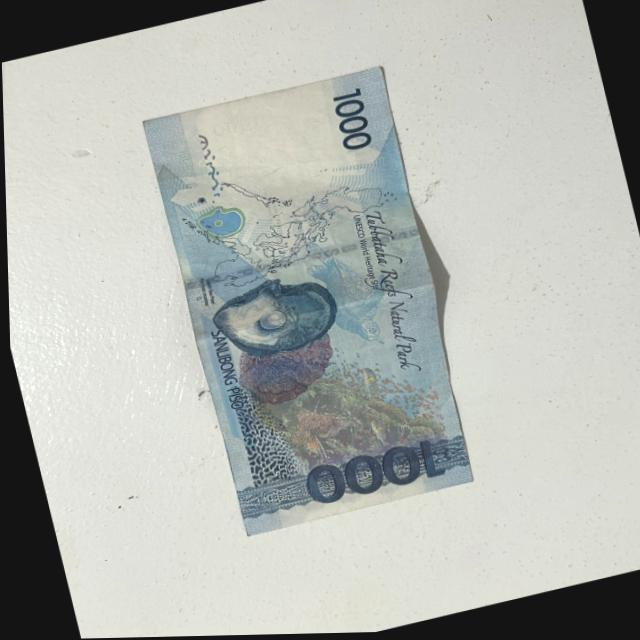1000_pearl: (213, 274, 338, 364)
1000_pearl_watermark: (184, 201, 246, 242)
value_watermark: (198, 104, 265, 142)
watermark: (212, 103, 352, 216)
